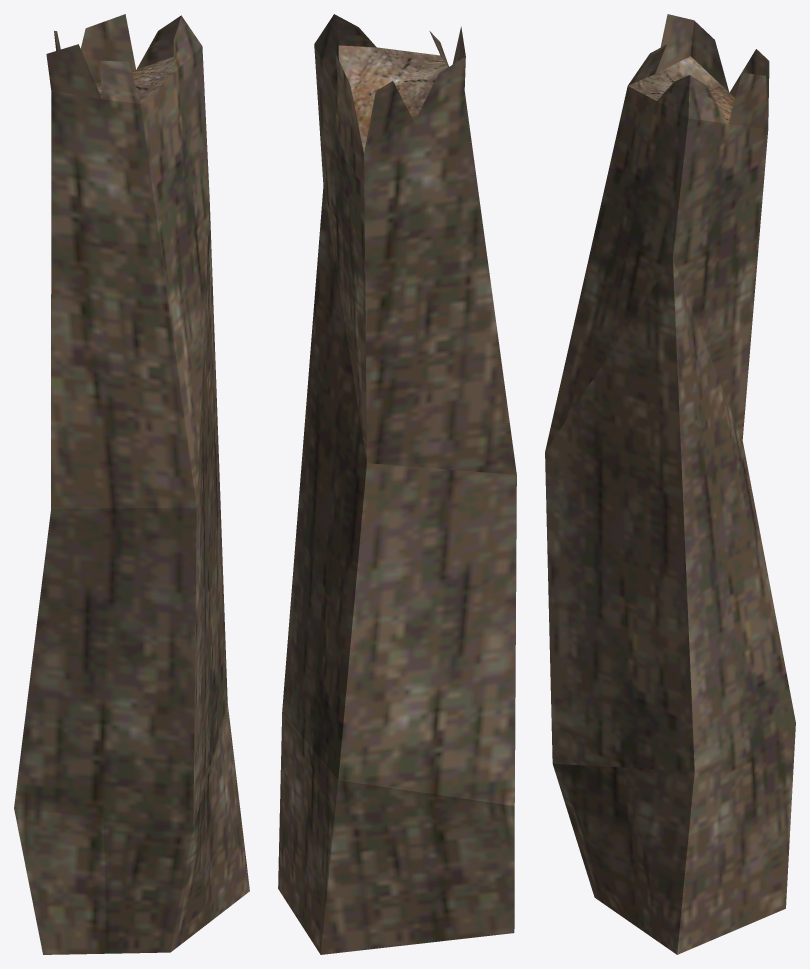
The model's file is Urban_WoodenFencePoleBrokenLarge_Model.fbx.
3 renders of one model, left to right at view 1: azimuth 30°, elevation 25°; view 2: azimuth 150°, elevation 25°; view 3: azimuth 270°, elevation 25°, orthographic. The views are drawn at different scales.
Visible parts, largest first — view 1: Urban_WoodenFencePoleBrokenLarge_Mesh; view 2: Urban_WoodenFencePoleBrokenLarge_Mesh; view 3: Urban_WoodenFencePoleBrokenLarge_Mesh.
Part boxes in pixels (x1,y1,x2,y2): Urban_WoodenFencePoleBrokenLarge_Mesh: (14,14,249,954); Urban_WoodenFencePoleBrokenLarge_Mesh: (278,14,516,954); Urban_WoodenFencePoleBrokenLarge_Mesh: (545,14,795,954).
Size of the model in its own units: 0.2664 by 0.9675 by 0.2564.
